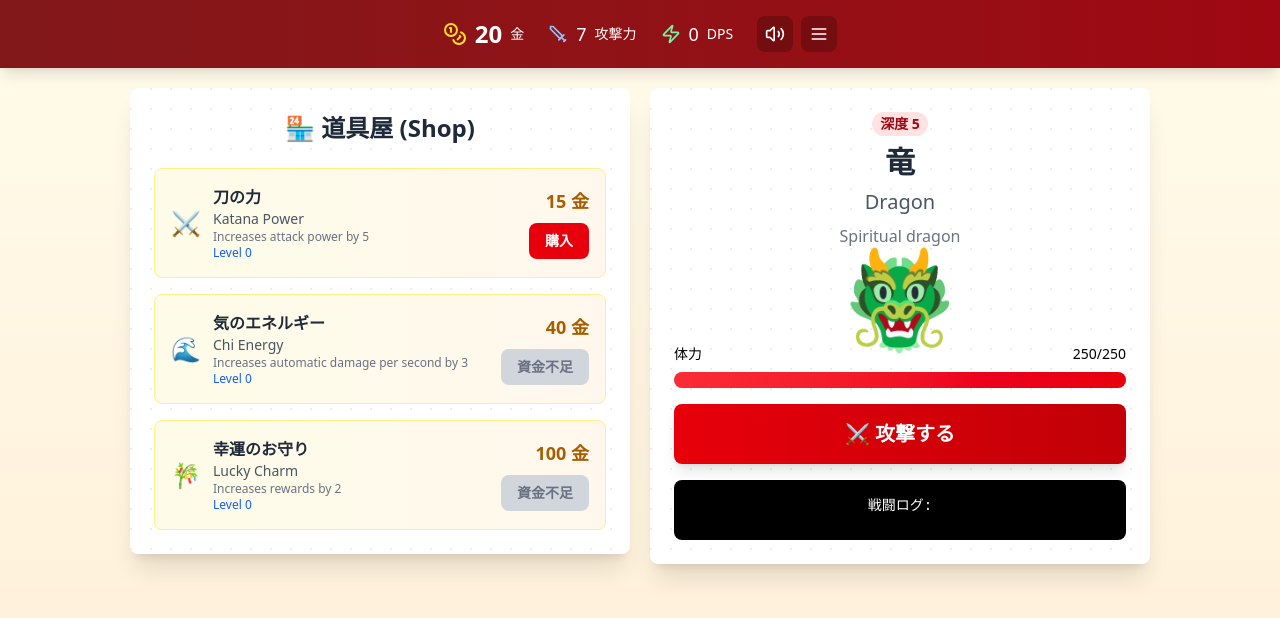
Test: recoil and shake › hits harder for a critical
Click the button "⚔️ 攻撃する" at (900, 434), box [674,404,1126,464]
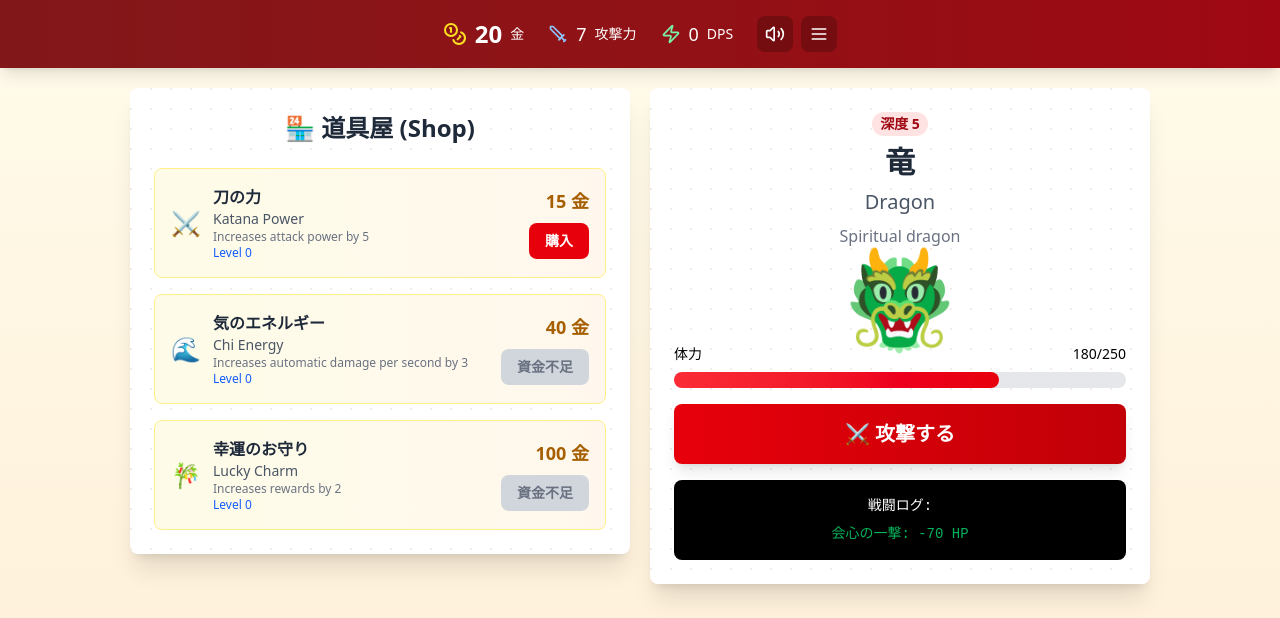
Expected: the text "🐲" is shown, [840,230,960,361]
Result: the element with class "shake-hard" is shown at [650,88,1150,584]
